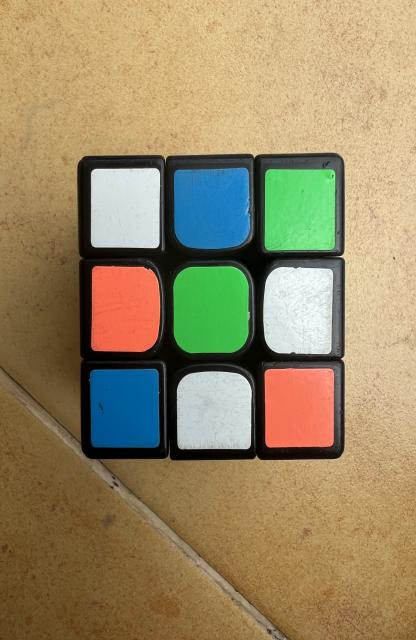Blue: (174, 168, 250, 249), (90, 369, 159, 448)
Green: (173, 266, 249, 354), (264, 169, 336, 250)
Orange: (91, 266, 160, 352), (264, 369, 334, 448)
White: (263, 268, 333, 354), (177, 371, 252, 450), (91, 168, 160, 249)
